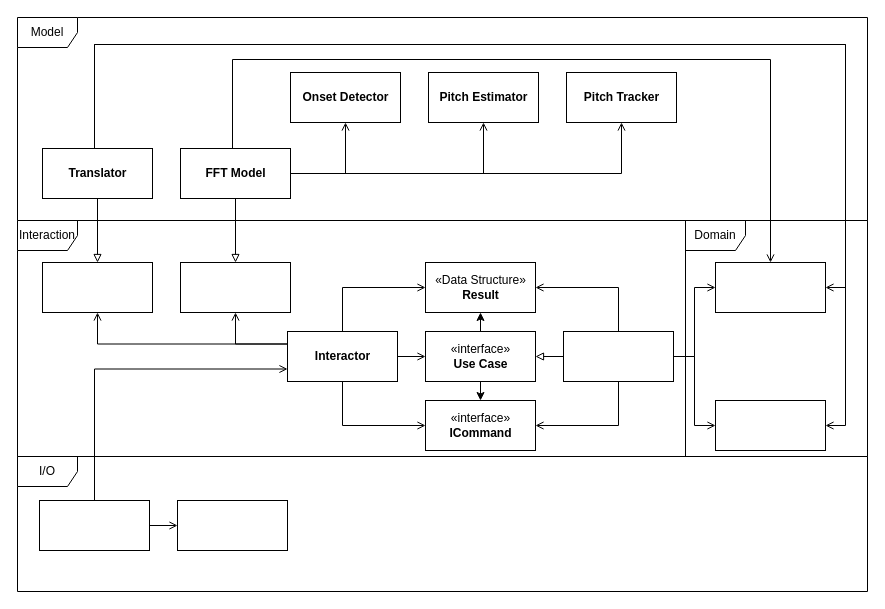
The diagram is 885 pixels wide and 609 high, and some of its shapes have lost their labels. The centre of each missing label's shape, as x and y in pixels:
"Note" belongs at pixel 770 287.
"Signal Transform Use Case" belongs at pixel 618 356.
"Tab" belongs at pixel 770 425.
"Transformation Controller" belongs at pixel 94 525.
"Transformation View" belongs at pixel 232 525.
"«interface» IModel" belongs at pixel 235 287.
"«interface» ITranslator" belongs at pixel 97 287.
